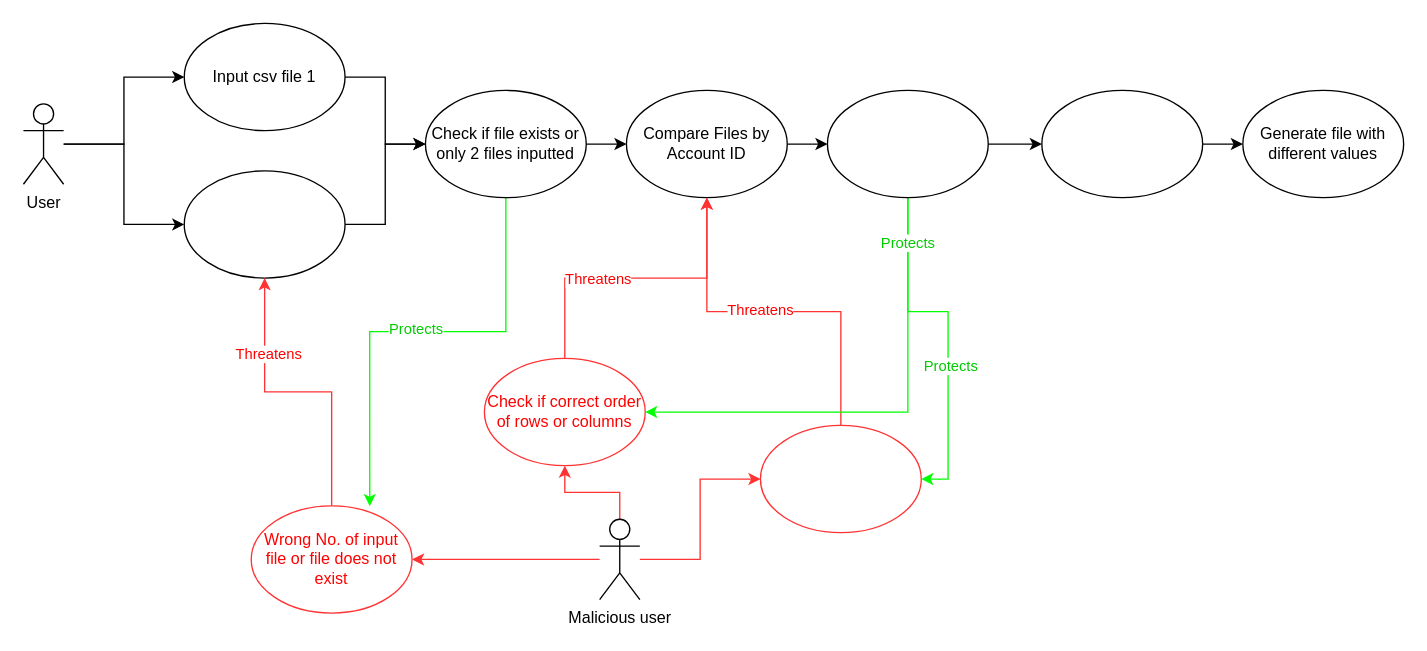
This 1427x651 diagram has some shape labels left out. Each missing label, with the centre of its shape:
"Check if correct order" goes at (907,143).
"Compare if there is different values" goes at (1122,143).
"Compare wrong account IDs" goes at (840,478).
"Input csv file 2" goes at (264,224).
